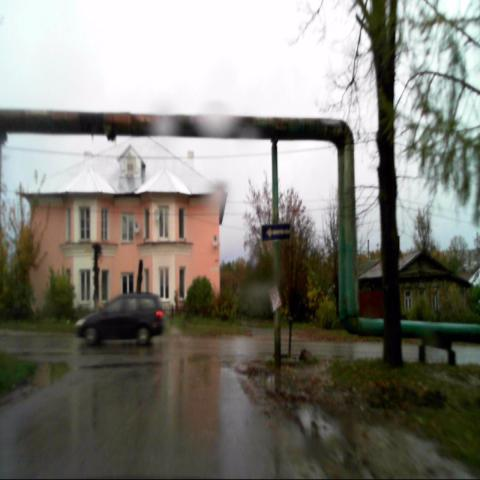5_7_2: (261, 222, 290, 241)
